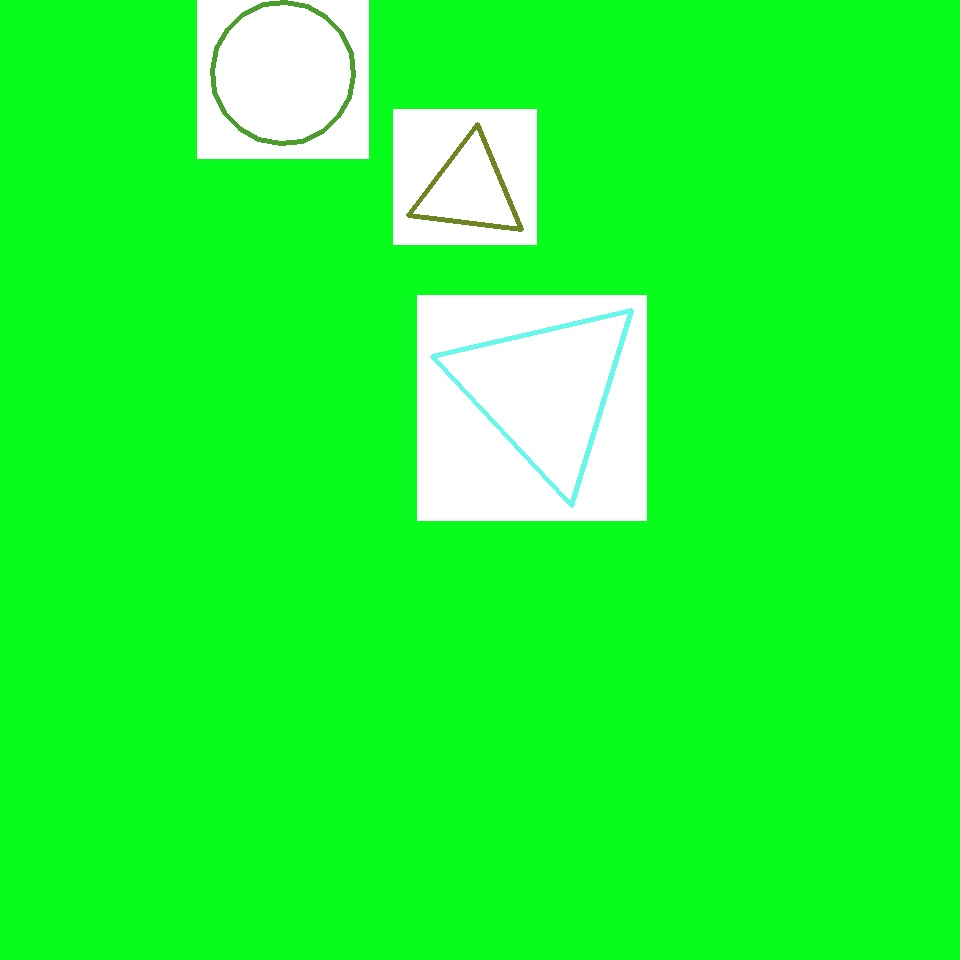circle: (448, 583, 740, 889), (446, 294, 644, 488), (220, 362, 422, 542), (412, 138, 526, 242), (584, 690, 668, 780)
square: (13, 674, 183, 842)
triangle: (314, 440, 654, 779), (213, 2, 354, 144)
